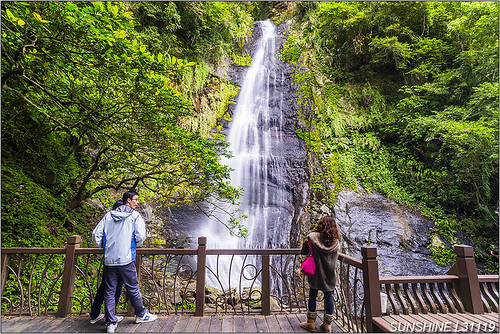wufengciWaterfall: (196, 15, 309, 249)
